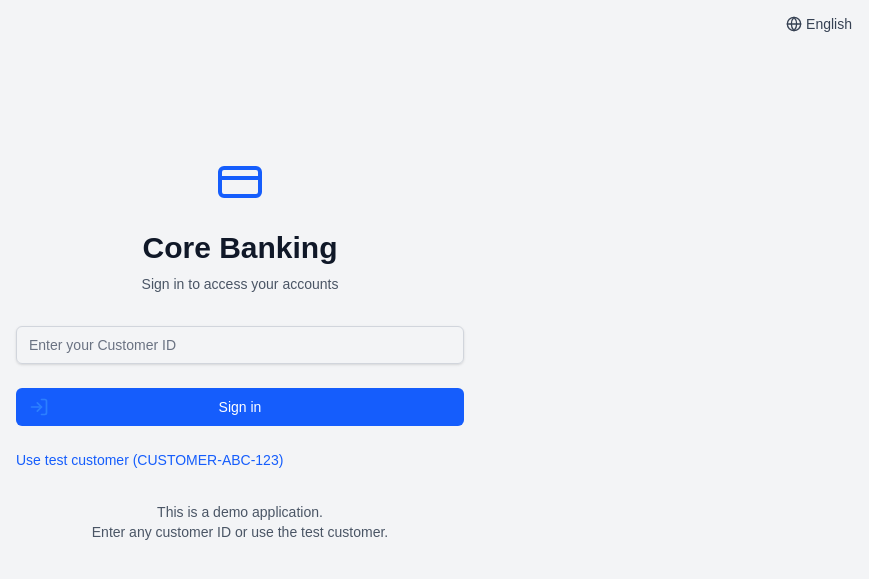
Test: LoginForm › shows error for empty customer ID
This screenshot has width=869, height=579.
Click the button "Sign in" at [240, 407], box x1=16 y1=388 x2=464 y2=426
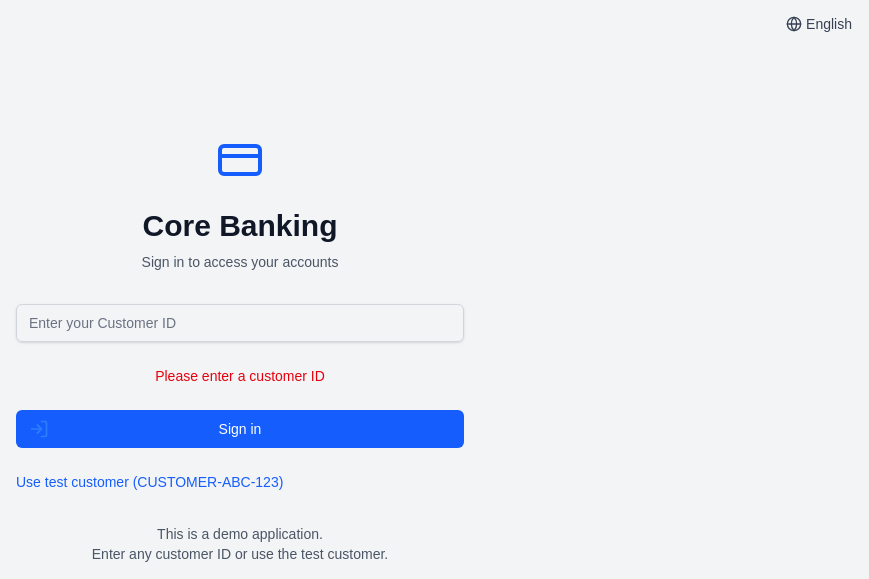
Now the text "Please enter a customer ID" is shown, box x1=155 y1=368 x2=325 y2=384
